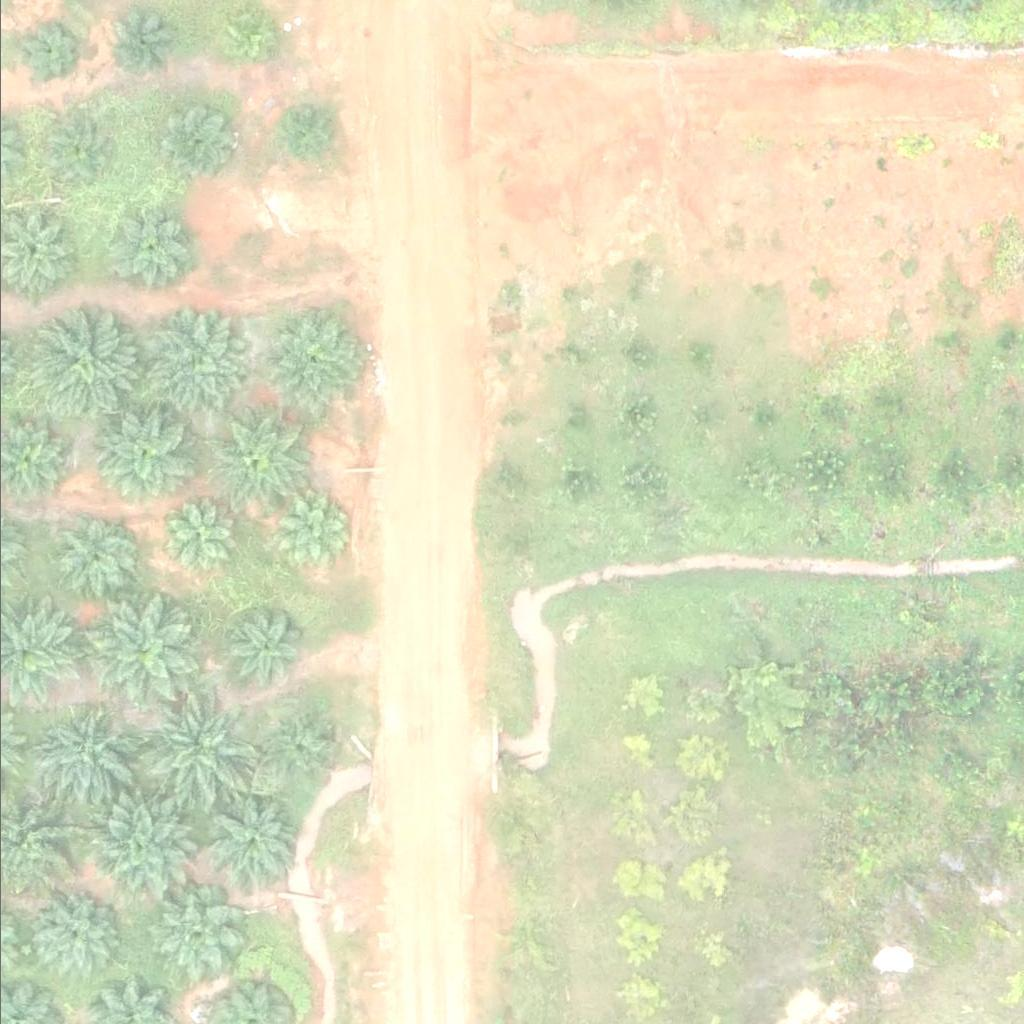Kelapa_Sawit: (140, 695, 265, 820), (134, 310, 248, 423), (27, 316, 141, 429), (88, 597, 201, 710), (260, 311, 361, 411), (209, 409, 310, 509), (34, 710, 135, 810), (88, 798, 189, 898), (90, 409, 190, 509), (203, 799, 291, 887), (216, 606, 305, 693), (264, 494, 352, 581), (149, 890, 237, 977), (24, 892, 112, 979), (42, 117, 118, 192), (152, 101, 228, 176), (111, 210, 187, 285), (52, 524, 128, 599), (160, 499, 235, 574), (97, 4, 172, 79), (7, 18, 82, 93), (211, 2, 274, 65), (273, 94, 336, 157), (265, 719, 328, 781)
